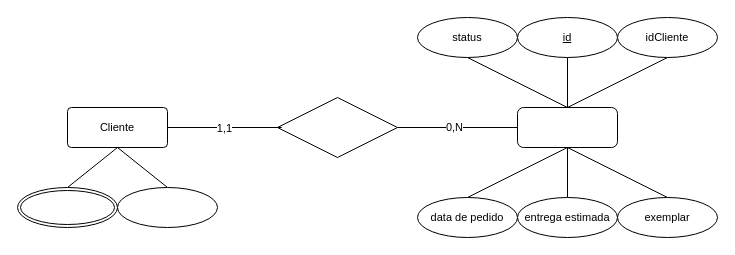
Image size: 735x255. Some labels were removed from this diagram. Each missing label, with the box of its shape:
email: (116, 186, 218, 228)
endereço: (16, 186, 118, 228)
faz: (276, 96, 398, 158)
Pedido: (516, 106, 618, 148)
